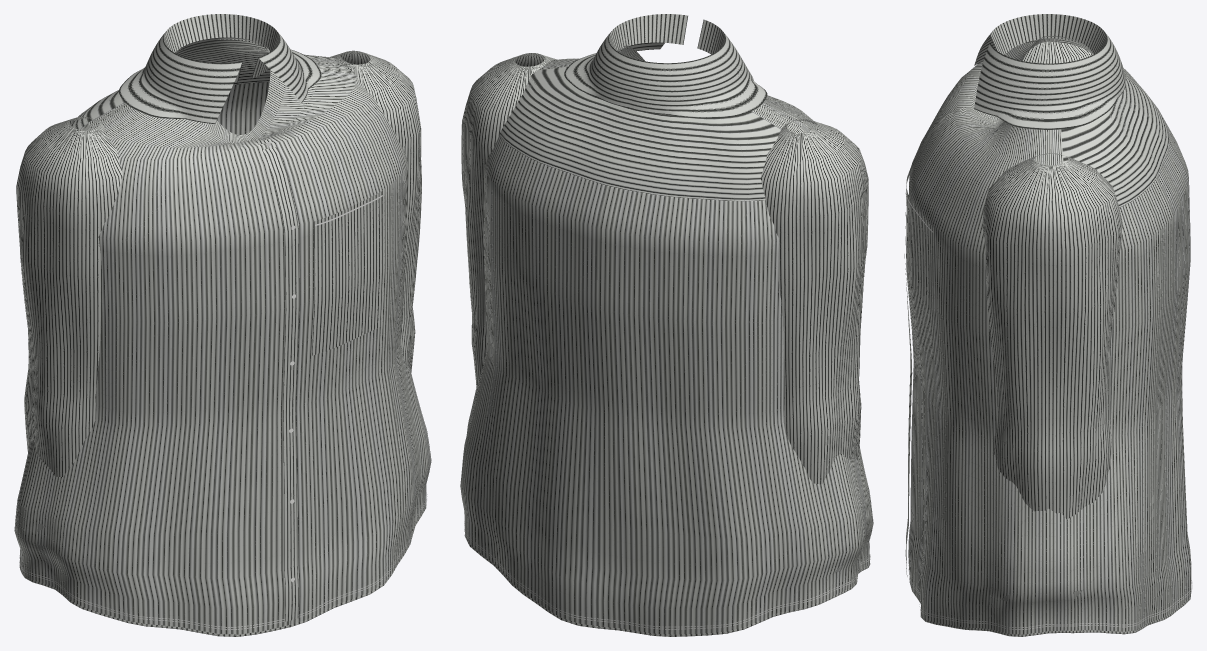
Rendered from trillion-striped-oxford.glb.
3 renders of one model, left to right at view 1: azimuth 30°, elevation 25°; view 2: azimuth 150°, elevation 25°; view 3: azimuth 270°, elevation 25°, orthographic.
Visible parts, largest first — view 1: Measured garment body#0, Sleeve#16, Chest pocket#13, Sleeve#20, Button placket#5, Point collar#3, Collar band#2, Point collar#4, Folded bottom hem#1, Body finish topstitching#15; view 2: Measured garment body#0, Sleeve#16, Sleeve#20, Point collar#3, Point collar#4, Collar band#2, Folded bottom hem#1, Body finish topstitching#15; view 3: Measured garment body#0, Sleeve#20, Point collar#4, Chest pocket#13, Collar band#2, Sleeve#16, Button placket#5, Folded bottom hem#1, Body finish topstitching#15.
Boxes of the visible parts, <box> form: Measured garment body#0: <box>14,37,431,634</box>; Sleeve#16: <box>16,117,122,477</box>; Chest pocket#13: <box>312,191,382,355</box>; Sleeve#20: <box>329,50,421,372</box>; Button placket#5: <box>257,139,299,621</box>; Point collar#3: <box>119,32,242,123</box>; Collar band#2: <box>163,14,279,82</box>; Point collar#4: <box>258,30,321,102</box>; Folded bottom hem#1: <box>19,506,426,636</box>; Body finish topstitching#15: <box>19,494,427,629</box>; Measured garment body#0: <box>460,45,873,634</box>; Sleeve#16: <box>760,119,868,484</box>; Sleeve#20: <box>461,53,556,389</box>; Point collar#3: <box>628,32,767,118</box>; Point collar#4: <box>564,31,664,107</box>; Collar band#2: <box>609,14,725,63</box>; Folded bottom hem#1: <box>464,535,870,636</box>; Body finish topstitching#15: <box>464,521,870,629</box>; Measured garment body#0: <box>908,36,1191,634</box>; Sleeve#20: <box>982,153,1122,519</box>; Point collar#4: <box>974,39,1125,129</box>; Chest pocket#13: <box>906,189,937,365</box>; Collar band#2: <box>990,14,1106,55</box>; Sleeve#16: <box>1022,41,1092,63</box>; Button placket#5: <box>904,107,966,576</box>; Folded bottom hem#1: <box>909,581,1191,636</box>; Body finish topstitching#15: <box>908,565,1192,629</box>.
Bounding box in the file's own units: 0.5232 × 0.6834 × 0.3303.
Materials: 4 (2 with a texture image).
